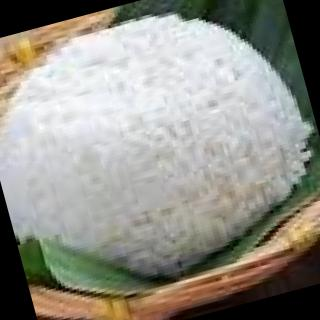Nasi: (1, 1, 320, 310)
